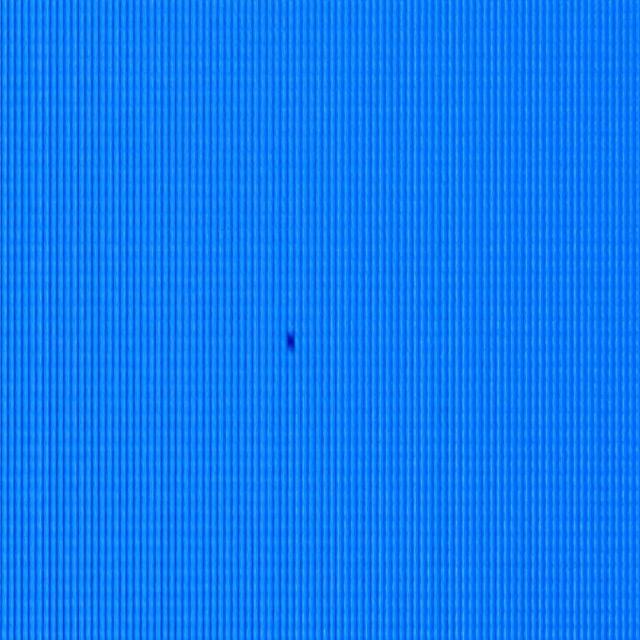Dead pixel: (284, 328, 296, 352)
